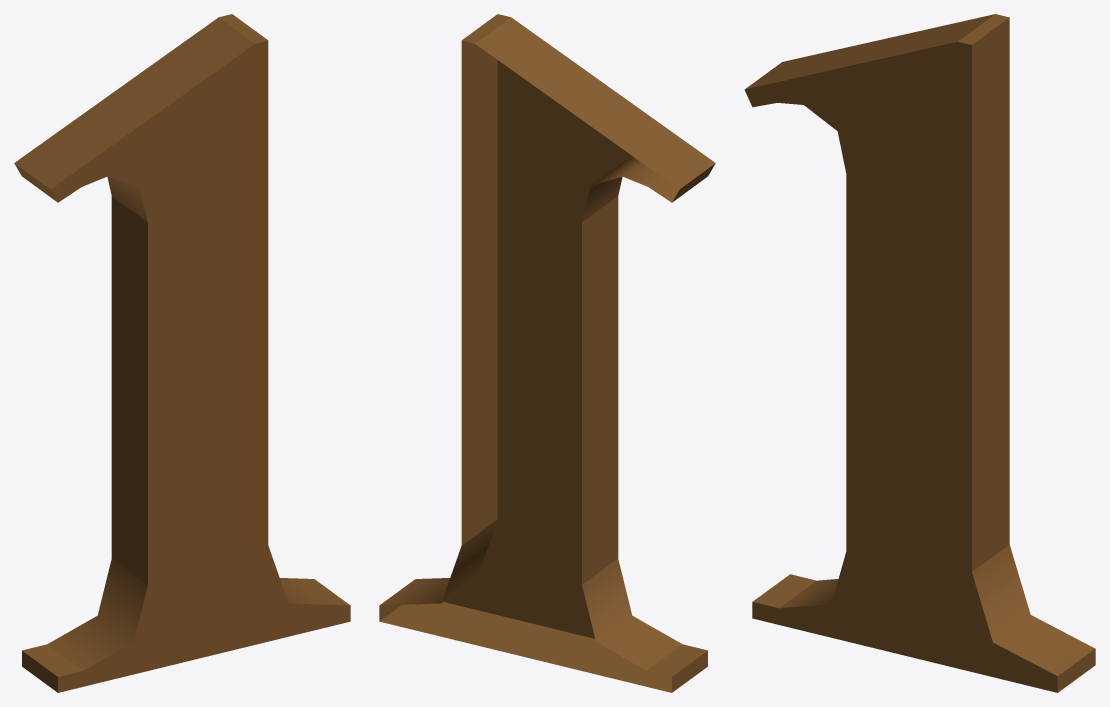
3 renders of one model, left to right at view 1: azimuth 30°, elevation 25°; view 2: azimuth 150°, elevation 25°; view 3: azimuth 330°, elevation 25°, orthographic. The views are drawn at different scales.
Visible parts, largest first — view 1: 1; view 2: 1; view 3: 1.
Part boxes in pixels (x1,y1,x2,y2): 1: (14,14,350,692); 1: (379,14,715,692); 1: (744,14,1095,692).
Size of the model in its own units: 5.26 by 10.06 by 1.1.
